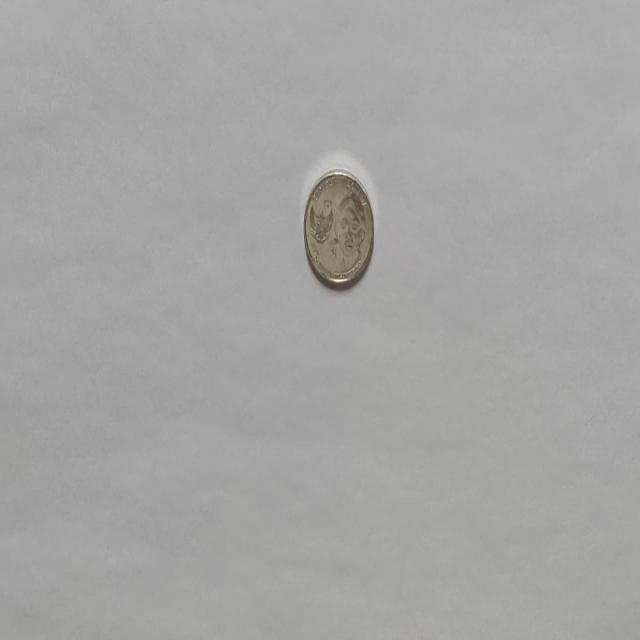dua ratus rupiah: (302, 166, 374, 289)
